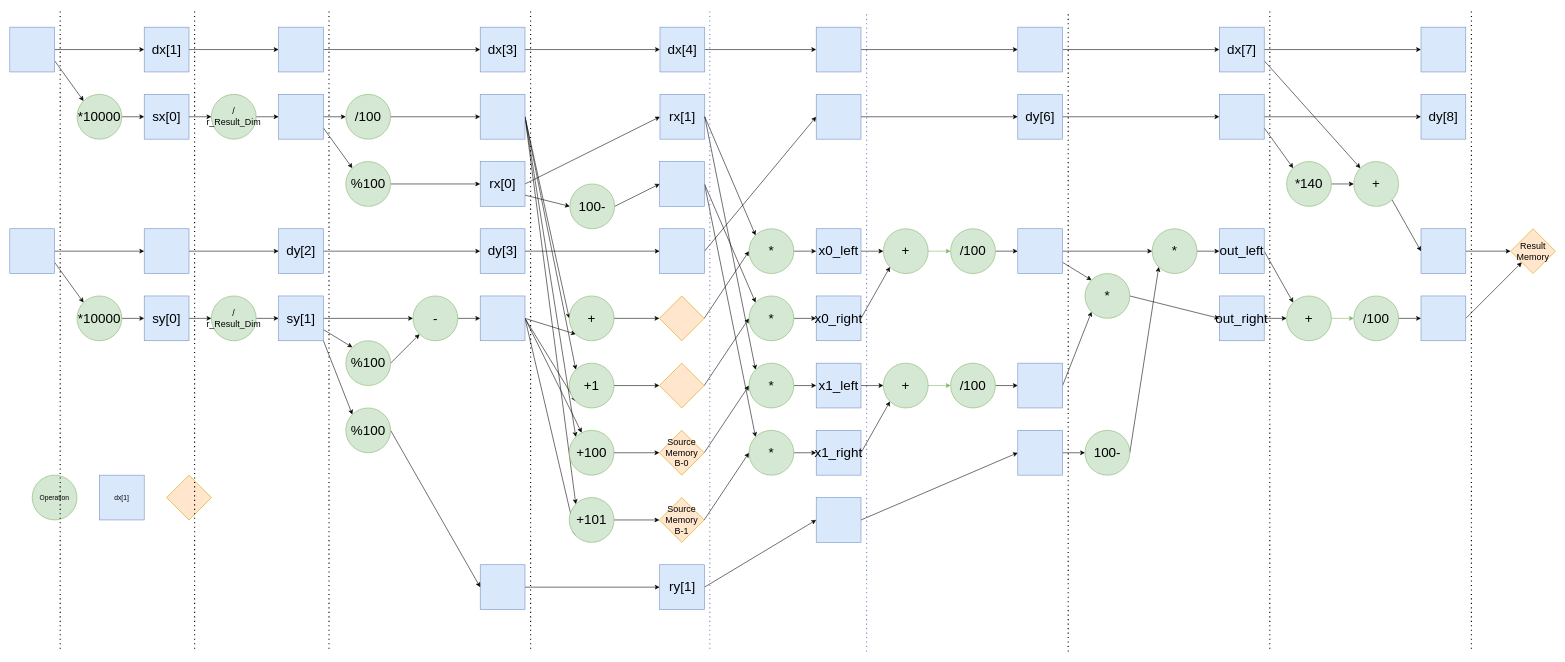
Image size: 1565x662. Some labels were removed from this diagram. The box of each missing label's shape, as (x1, y1, x2, y2) in pixels:
dx[0]: (9, 27, 55, 72)
dx[2]: (278, 27, 323, 72)
dx[5]: (816, 27, 861, 72)
dx[6]: (1017, 27, 1063, 72)
dx[8]: (1420, 27, 1466, 72)
dy[0]: (9, 228, 55, 274)
dy[1]: (144, 228, 189, 274)
dy[4]: (659, 228, 704, 274)
dy[5]: (816, 94, 861, 139)
dy[7]: (1219, 94, 1264, 139)
Memory: (166, 475, 211, 520)
out: (1420, 295, 1466, 341)
out_mem_ addr: (1420, 228, 1466, 274)
rxi: (659, 161, 704, 206)
ry[0]: (480, 564, 525, 610)
ry[2]: (816, 497, 861, 542)
ry[3]: (1017, 430, 1063, 475)
Source Memory A-0: (659, 295, 704, 341)
Source Memory A-1: (659, 363, 704, 408)
sx0: (480, 94, 525, 139)
sx[1]: (278, 94, 323, 139)
sy0: (480, 295, 525, 341)
x0: (1017, 228, 1063, 274)
x1: (1017, 363, 1063, 408)
